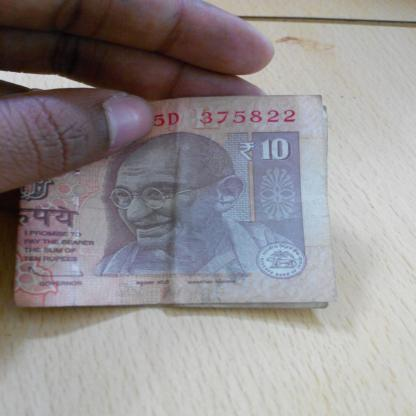Old10Front: (11, 93, 335, 311)
